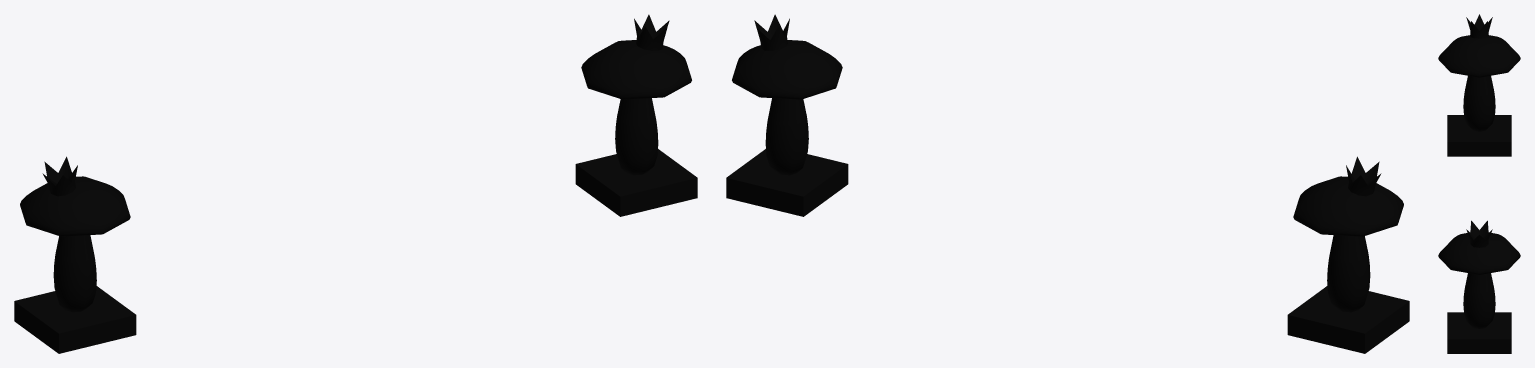
The model's file is zamekStrefa4Rzezby.FBX.
3 views of the same model, side by side, from view 1: azimuth 30°, elevation 25°; view 2: azimuth 150°, elevation 25°; view 3: azimuth 270°, elevation 25° (orthographic). The views are drawn at different scales.
Visible parts, largest first — view 1: Rzezba2, Rzezba1; view 2: Rzezba2, Rzezba1; view 3: Rzezba1, Rzezba2.
Boxes of the visible parts, x1,y1,x2,y2 form: Rzezba2: (575, 14, 697, 216); Rzezba1: (14, 156, 136, 353); Rzezba2: (726, 14, 848, 216); Rzezba1: (1287, 156, 1409, 353); Rzezba1: (1438, 14, 1520, 156); Rzezba2: (1438, 220, 1520, 353).
Size of the model in its own units: 341 by 83.12 by 51.38.
1 material, 1 textured.
